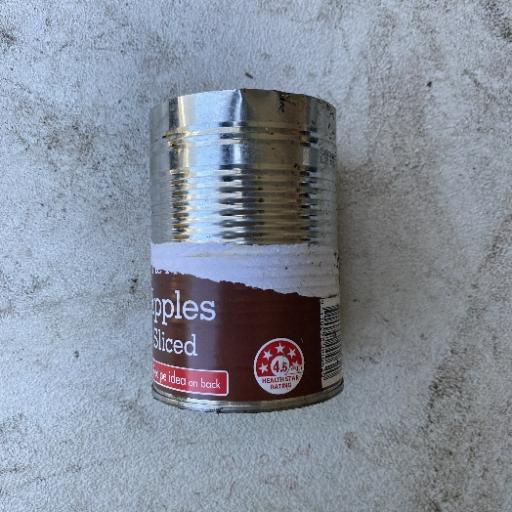Metal: (146, 86, 346, 414)
